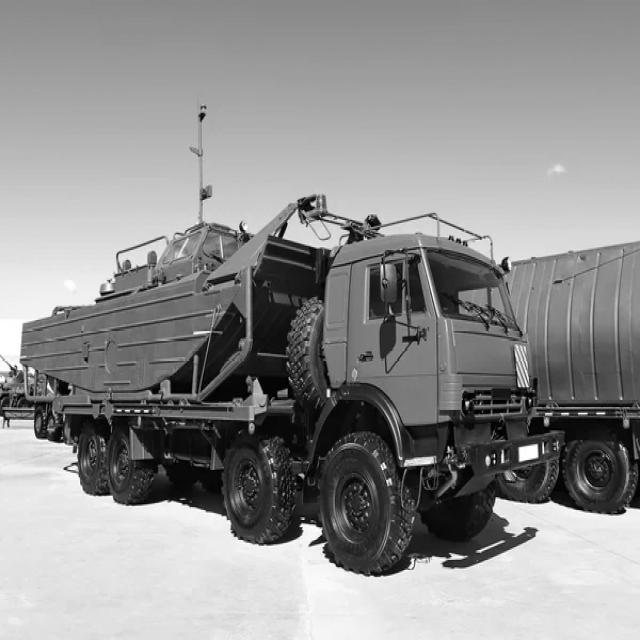Truck: (20, 194, 563, 574)
